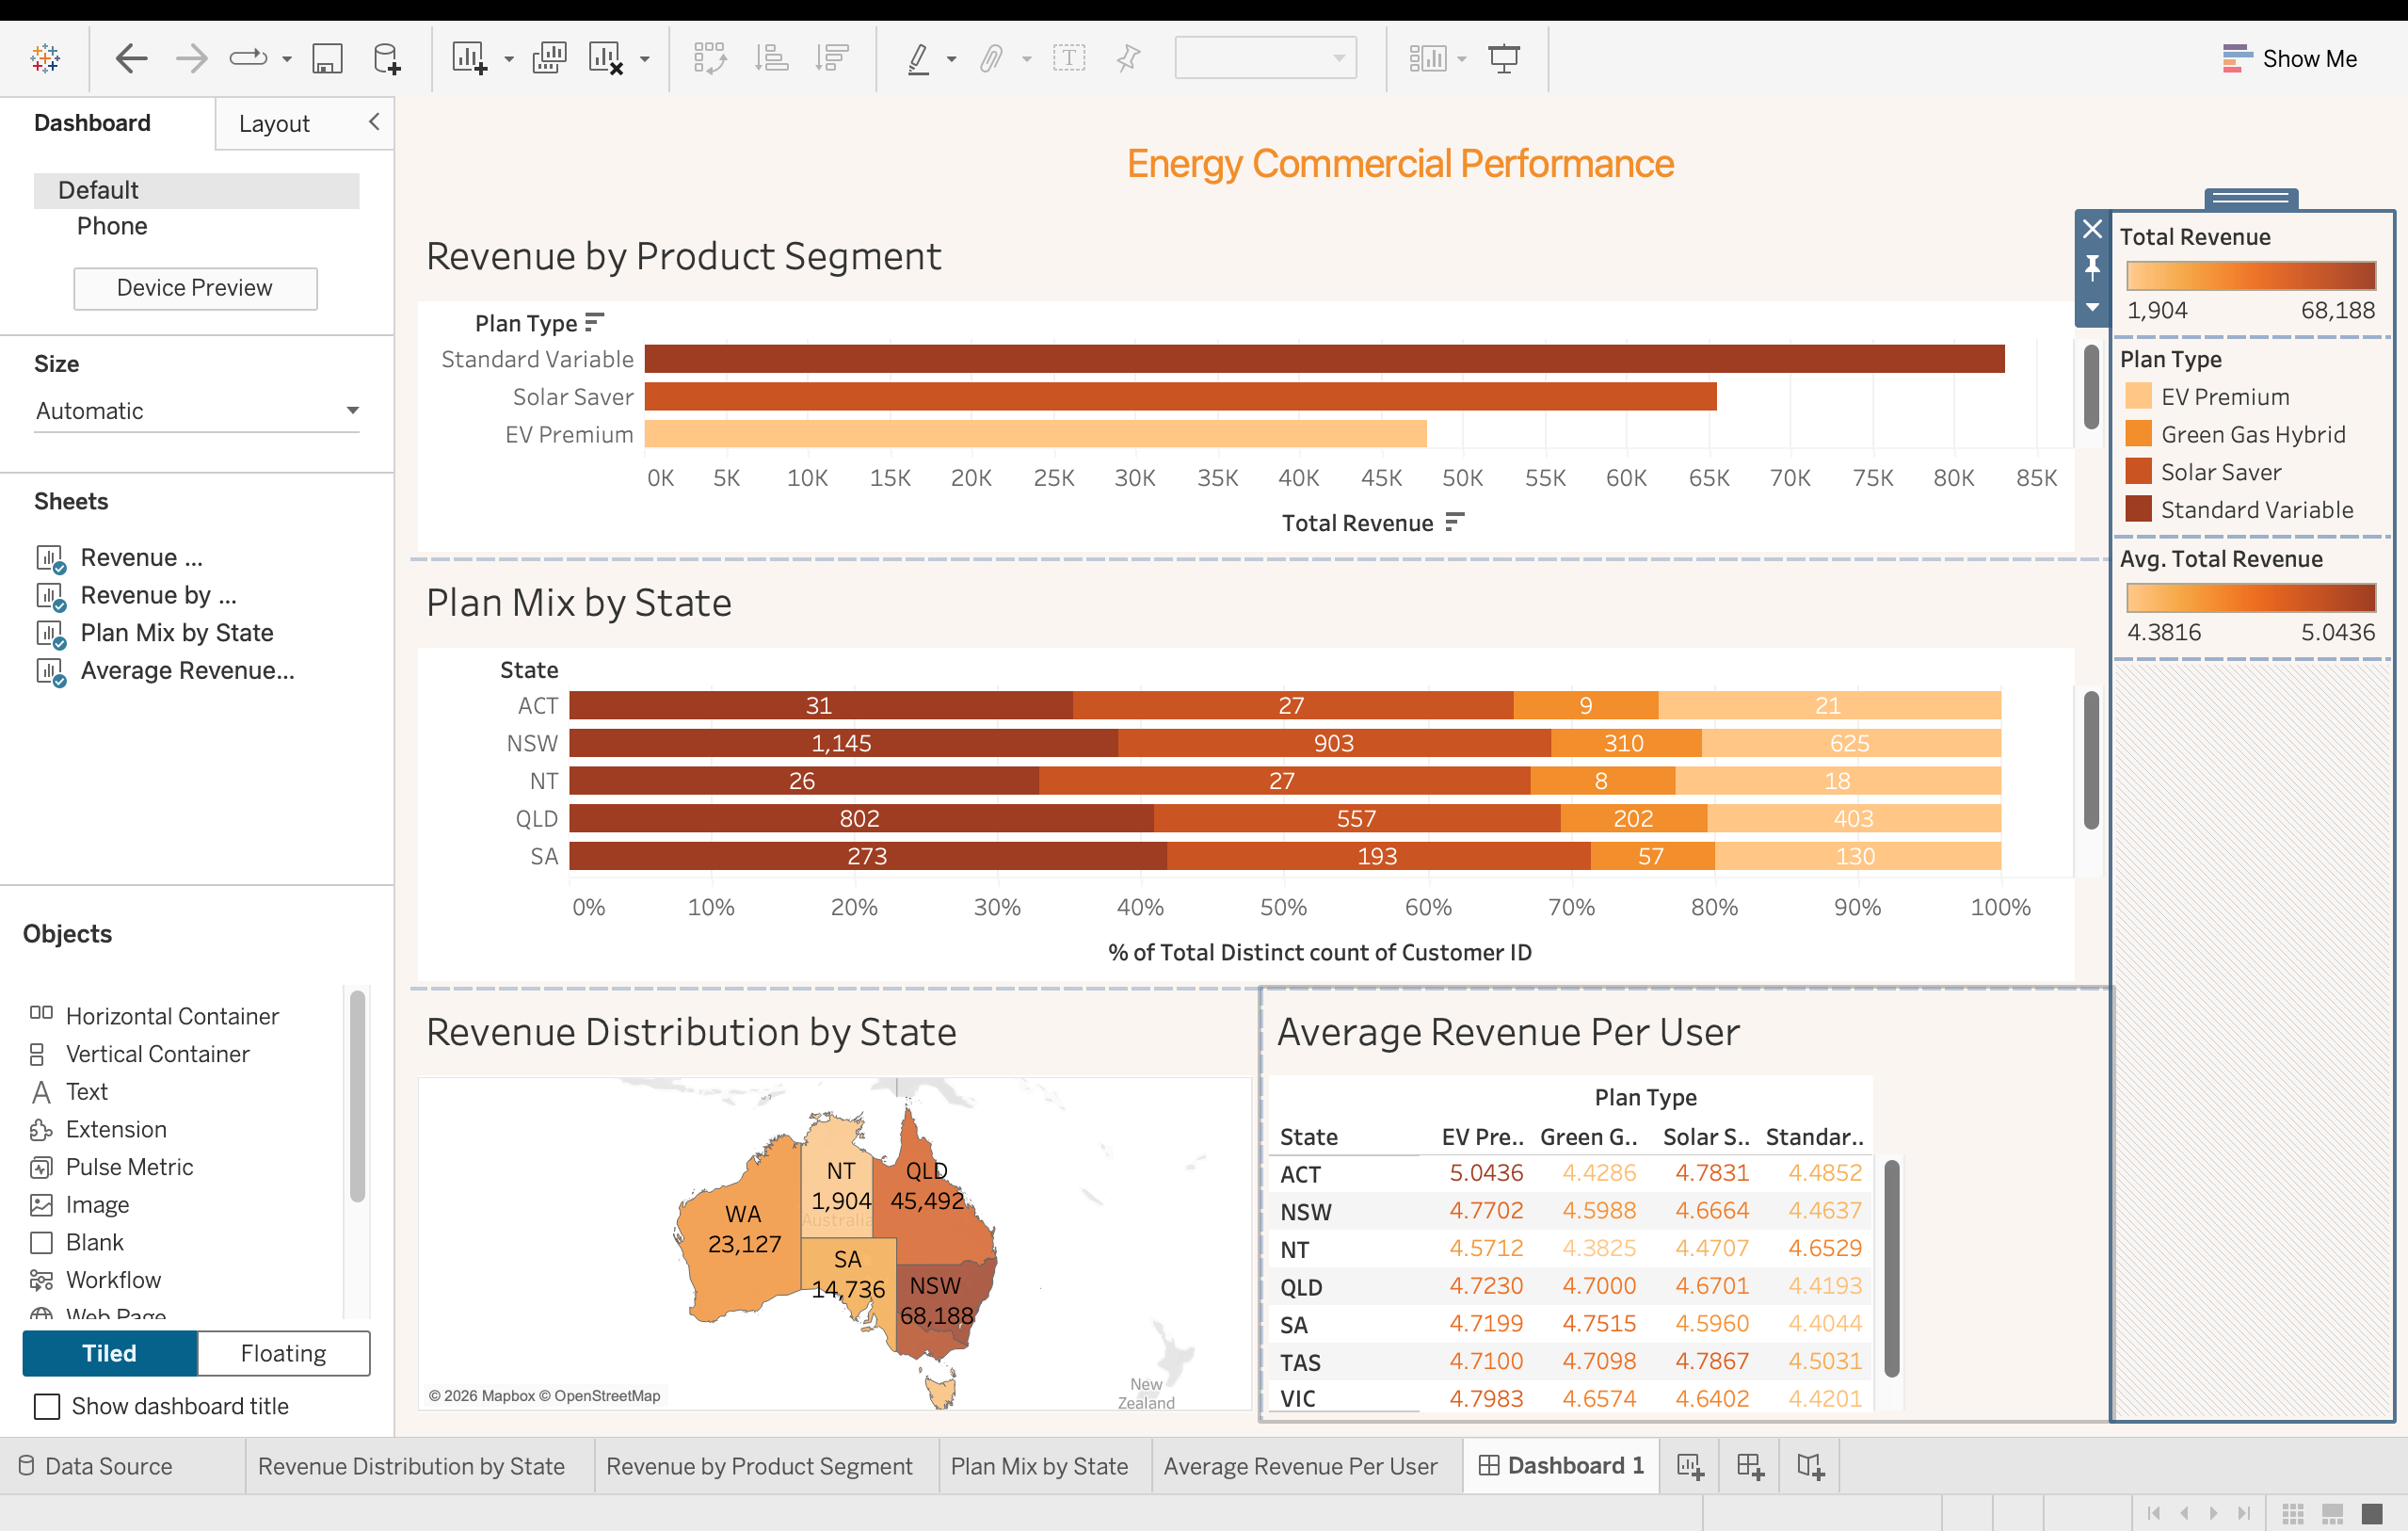

This screenshot's page, from the dashboard's own definition file:
{"tool":"tableau","page":{"name":"Dashboard 1","canvas":[1000,1000],"units":"permille","ordinal":0},"visuals":[{"type":"text","box":[7.5,11.2,985,76]},{"type":"worksheet","title":"Revenue by Product Segment","mark":"Automatic","rows":["Plan_Type"],"cols":["Total_Revenue"],"box":[7.5,87.2,845.7,259.4]},{"type":"legend","title":"Revenue Distribution by State","param":"[federated.18q5r4w17qsly51gjdvwu0ebwch6].[sum:Total_Revenue:qk]","box":[853.1,87.2,139.4,91.4]},{"type":"legend","title":"Revenue by Product Segment","param":"[federated.18q5r4w17qsly51gjdvwu0ebwch6].[none:Plan_Type:nk]","box":[853.1,178.6,139.4,149.1]},{"type":"legend","title":"Average Revenue Per User","param":"[federated.18q5r4w17qsly51gjdvwu0ebwch6].[avg:Total_Revenue:qk]","box":[853.1,327.7,139.4,91.4]},{"type":"worksheet","title":"Plan Mix by State","mark":"Automatic","rows":["State"],"box":[7.5,346.6,845.7,320]},{"type":"worksheet","title":"Revenue Distribution by State","mark":"Automatic","box":[7.5,666.7,422.8,322.1]},{"type":"worksheet","title":"Average Revenue Per User","mark":"Automatic","rows":["State"],"cols":["Plan_Type"],"box":[430.3,666.7,422.9,322.1]}]}

Visuals, with their boxes on the dashboard's canvas, which has no fixed pixel size, in thousandths of its width and height (x1, y1, x2, y2). These are canvas units, not pixel positions in the 2408x1531 screenshot, which may show the page scaled, cropped or inside an application window:
text: [x1=8, y1=11, x2=992, y2=87]
"Revenue by Product Segment" worksheet: [x1=8, y1=87, x2=853, y2=347]
"Revenue Distribution by State" legend: [x1=853, y1=87, x2=992, y2=179]
"Revenue by Product Segment" legend: [x1=853, y1=179, x2=992, y2=328]
"Average Revenue Per User" legend: [x1=853, y1=328, x2=992, y2=419]
"Plan Mix by State" worksheet: [x1=8, y1=347, x2=853, y2=667]
"Revenue Distribution by State" worksheet: [x1=8, y1=667, x2=430, y2=989]
"Average Revenue Per User" worksheet: [x1=430, y1=667, x2=853, y2=989]
